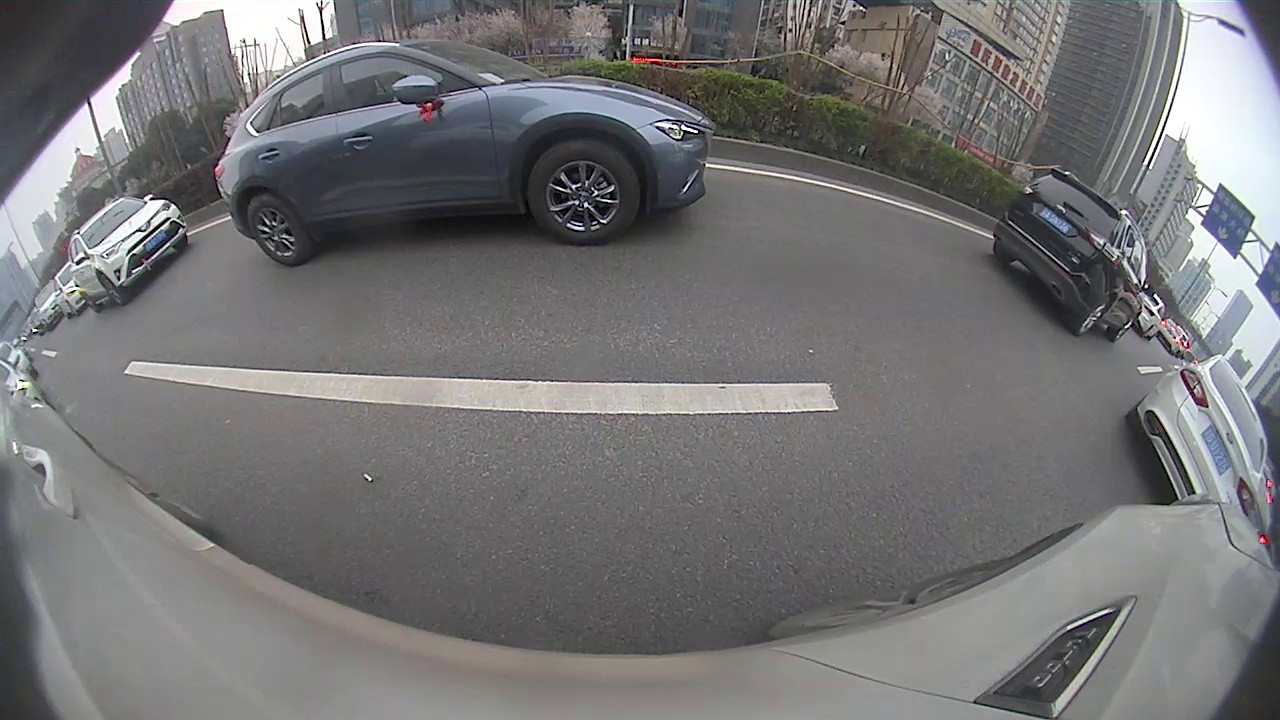car: (1033, 235, 1232, 364), (852, 167, 1025, 255), (1213, 289, 1279, 396), (749, 150, 825, 200), (999, 198, 1038, 252), (842, 170, 892, 201), (1038, 213, 1083, 244), (817, 157, 842, 191), (733, 164, 761, 185)
front: (1042, 251, 1073, 282), (850, 191, 871, 218)
rear: (1151, 305, 1187, 355), (923, 209, 948, 245), (768, 175, 781, 199)
